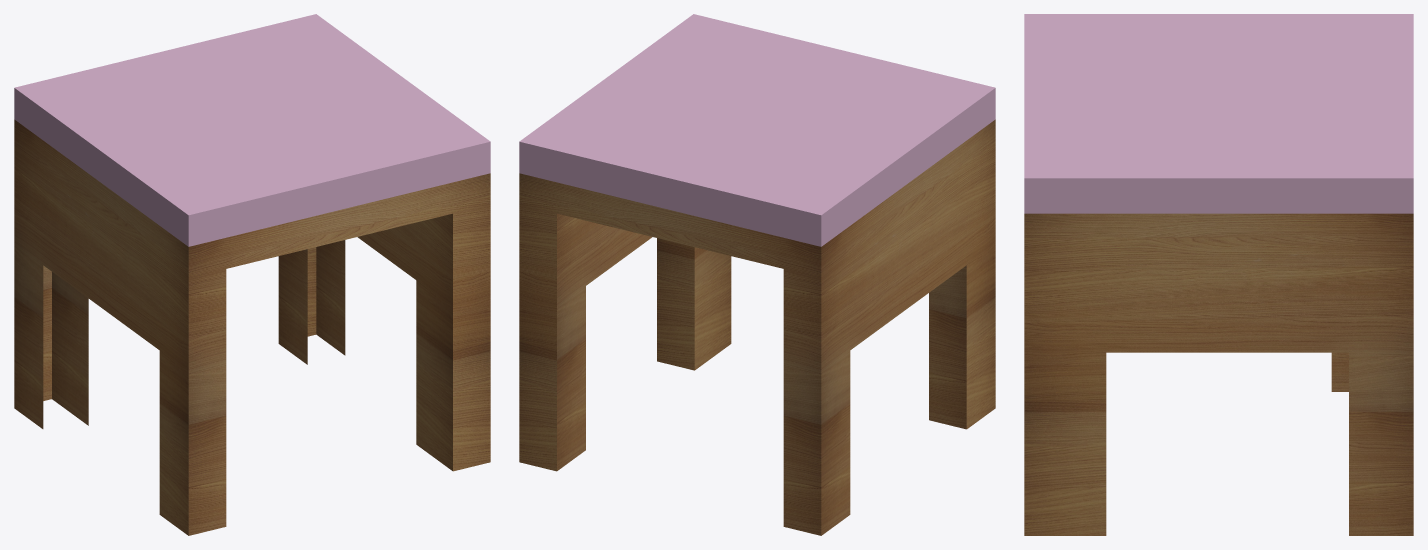
File: Prop_SC_Table2.FBX
3 views of the same model, side by side, from view 1: azimuth 30°, elevation 25°; view 2: azimuth 150°, elevation 25°; view 3: azimuth 270°, elevation 25° (orthographic). The views are drawn at different scales.
Visible parts, largest first — view 1: Prop_SC_Chair004; view 2: Prop_SC_Chair004; view 3: Prop_SC_Chair004.
Boxes of the visible parts, x1,y1,x2,y2 form: Prop_SC_Chair004: (14, 14, 490, 535); Prop_SC_Chair004: (519, 14, 995, 535); Prop_SC_Chair004: (1024, 14, 1413, 535).
Bounding box in the file's own units: 19.69 × 19.97 × 19.69.
